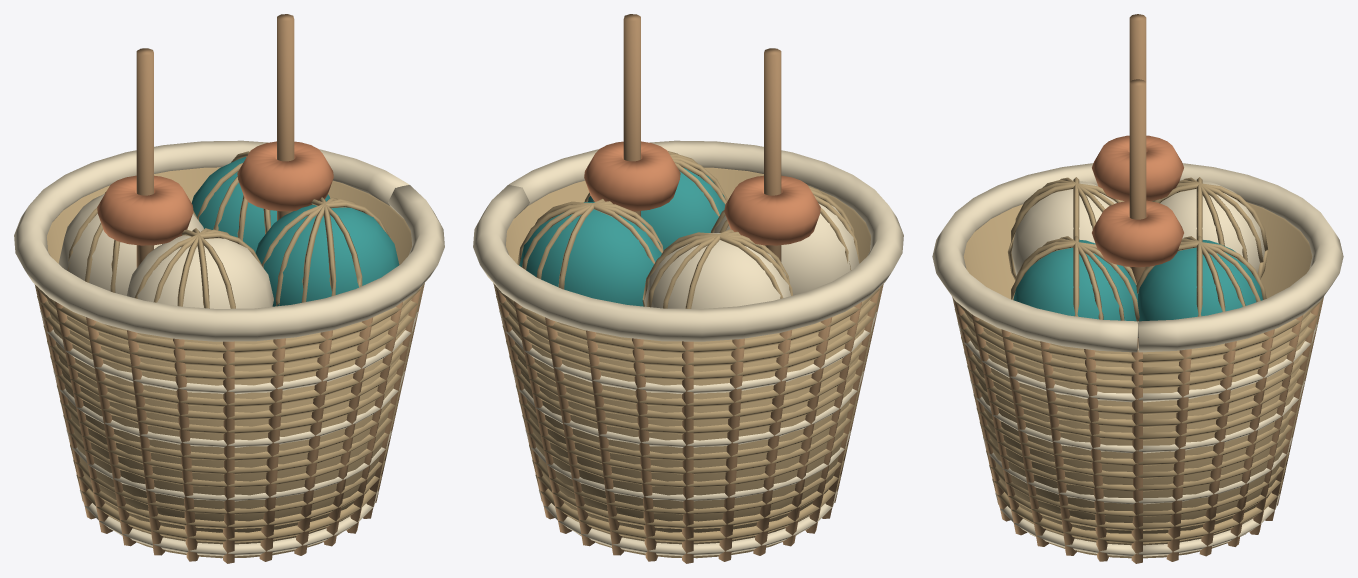
Rendered from spindle-basket.glb.
The picture shows the model from 3 angles, left to right: view 1: azimuth 30°, elevation 25°; view 2: azimuth 150°, elevation 25°; view 3: azimuth 270°, elevation 25°; orthographic projection. The views are drawn at different scales.
Visible parts, largest first — view 1: spindle-basket__rope, spindle-basket__linen, spindle-basket__woodlight, spindle-basket__teal, spindle-basket__clay; view 2: spindle-basket__rope, spindle-basket__linen, spindle-basket__woodlight, spindle-basket__teal, spindle-basket__clay; view 3: spindle-basket__rope, spindle-basket__linen, spindle-basket__woodlight, spindle-basket__teal, spindle-basket__clay.
Part boxes in pixels (x1=…): spindle-basket__rope: x1=34, y1=151, x2=424, y2=558; spindle-basket__linen: x1=14, y1=140, x2=444, y2=556; spindle-basket__woodlight: x1=35, y1=14, x2=424, y2=563; spindle-basket__teal: x1=192, y1=157, x2=399, y2=306; spindle-basket__clay: x1=97, y1=141, x2=333, y2=245; spindle-basket__rope: x1=493, y1=151, x2=883, y2=558; spindle-basket__linen: x1=473, y1=140, x2=903, y2=556; spindle-basket__woodlight: x1=494, y1=14, x2=883, y2=563; spindle-basket__teal: x1=519, y1=168, x2=725, y2=306; spindle-basket__clay: x1=584, y1=141, x2=820, y2=245; spindle-basket__rope: x1=952, y1=177, x2=1323, y2=558; spindle-basket__linen: x1=932, y1=163, x2=1343, y2=556; spindle-basket__woodlight: x1=953, y1=14, x2=1323, y2=563; spindle-basket__teal: x1=1013, y1=239, x2=1262, y2=321; spindle-basket__clay: x1=1092, y1=135, x2=1183, y2=267.
Size of the model in its own units: 0.5335 by 0.6415 by 0.5336.
